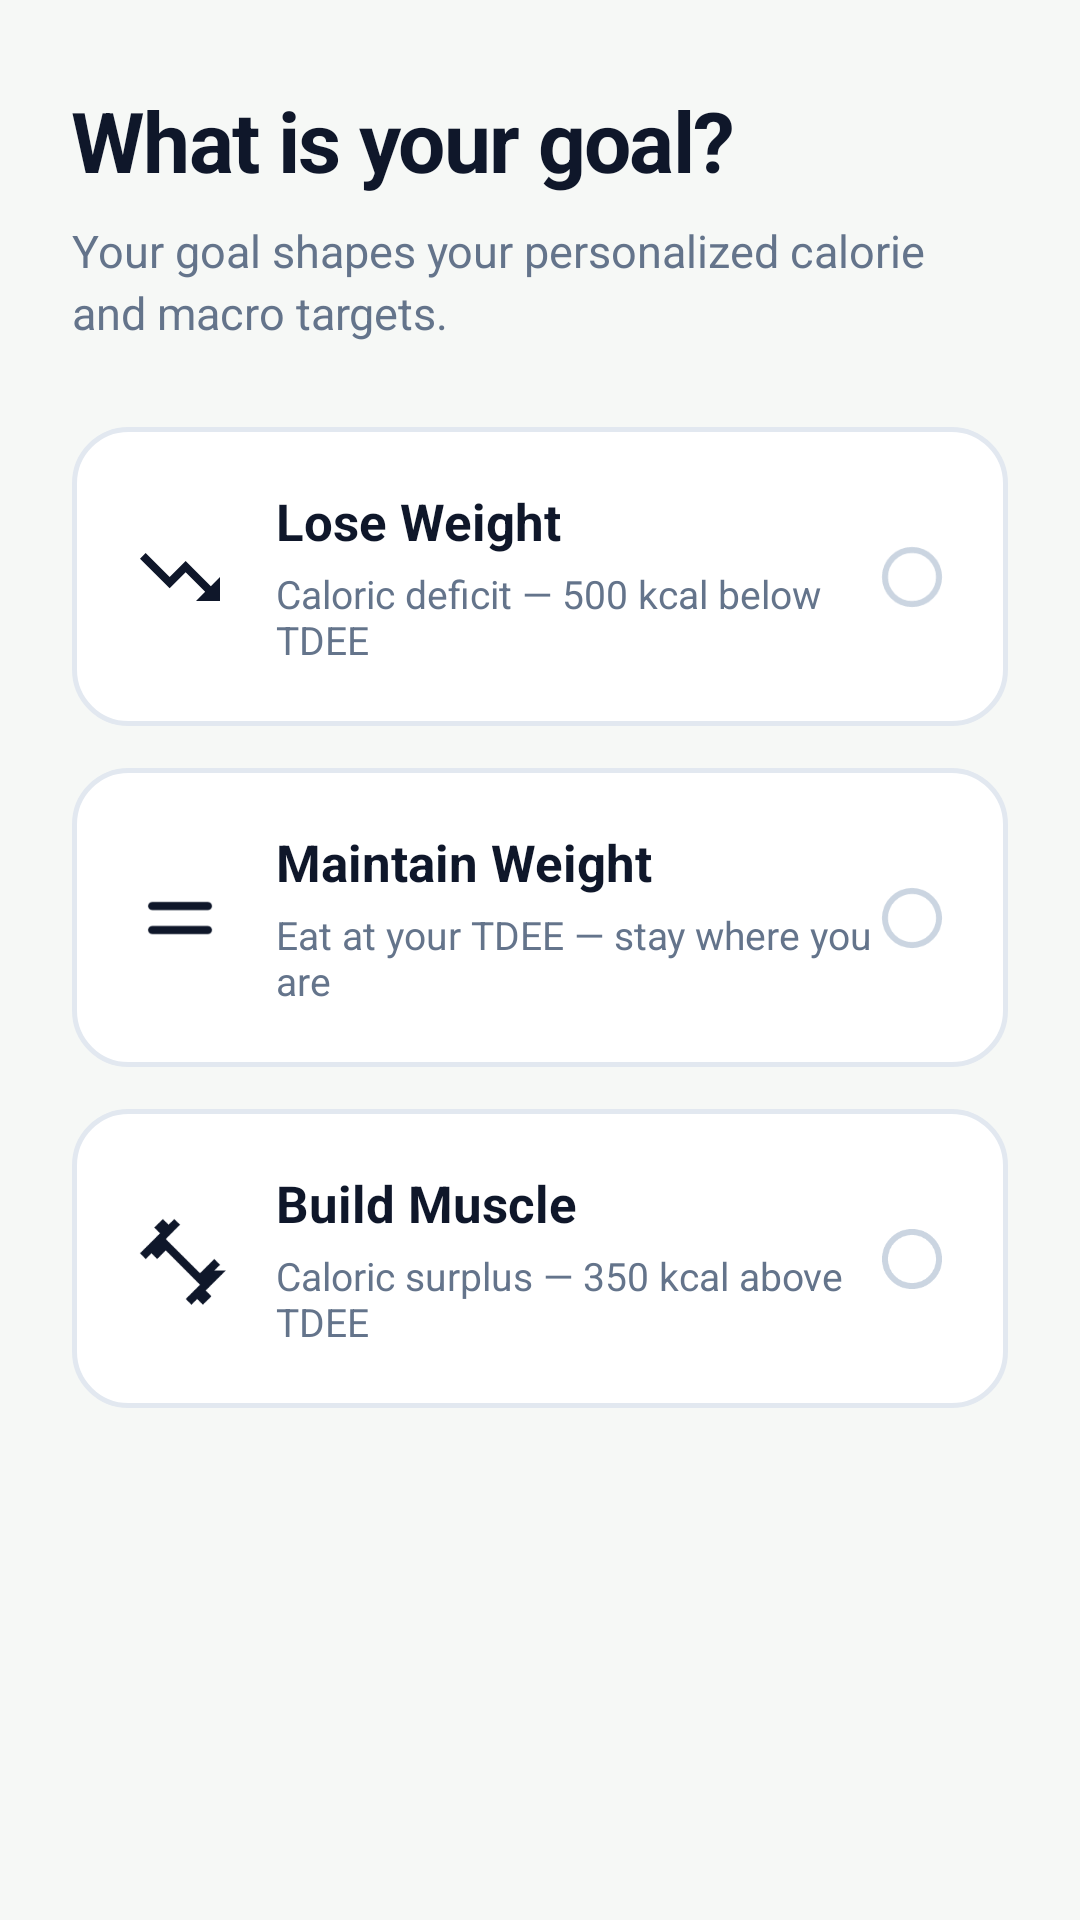

Named icons in this screenshot (1080px×1920px) and their bounding boxes, (x1, y1, x2, y2):
maintenance: (148, 901, 212, 935)
muscle gain: (140, 1219, 226, 1305)
radio: (882, 547, 942, 607), (882, 888, 942, 948), (882, 1229, 942, 1289)
weight loss: (140, 553, 220, 601)
